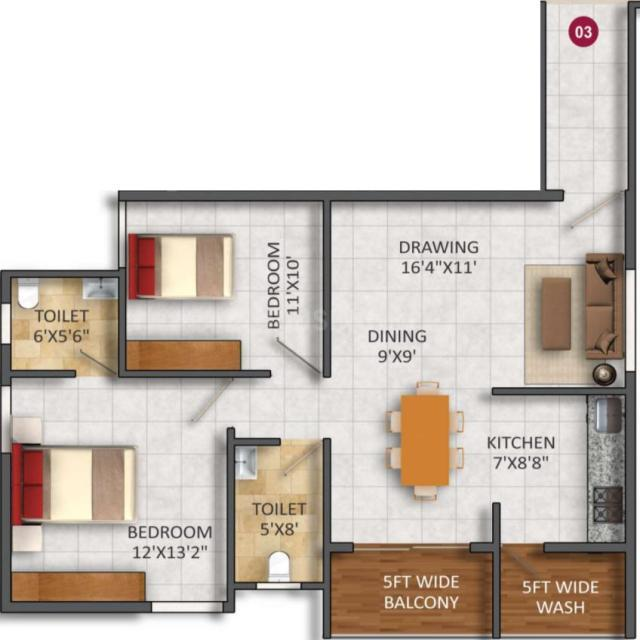Balcony-Sitout: (321, 540, 503, 637)
Bedroom: (113, 191, 326, 378)
Bedroom with Toilet: (0, 271, 235, 613)
Dining: (373, 377, 474, 510)
Kitchen: (489, 386, 638, 546)
Living: (324, 191, 630, 379)
Toilet: (224, 434, 326, 592), (3, 269, 123, 380)
Utility: (494, 546, 635, 640)
